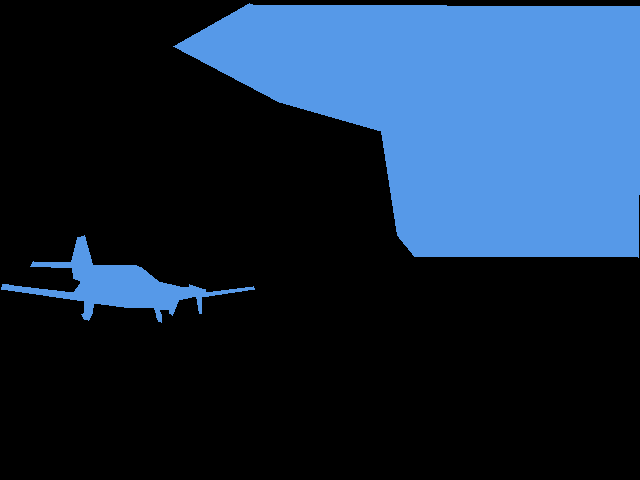Airplane: (173, 3, 640, 257), (1, 235, 255, 322)
